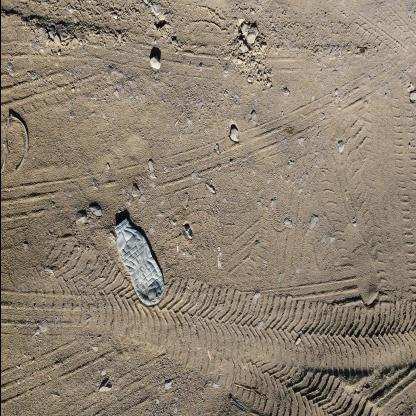plastik: (114, 219, 166, 307)
